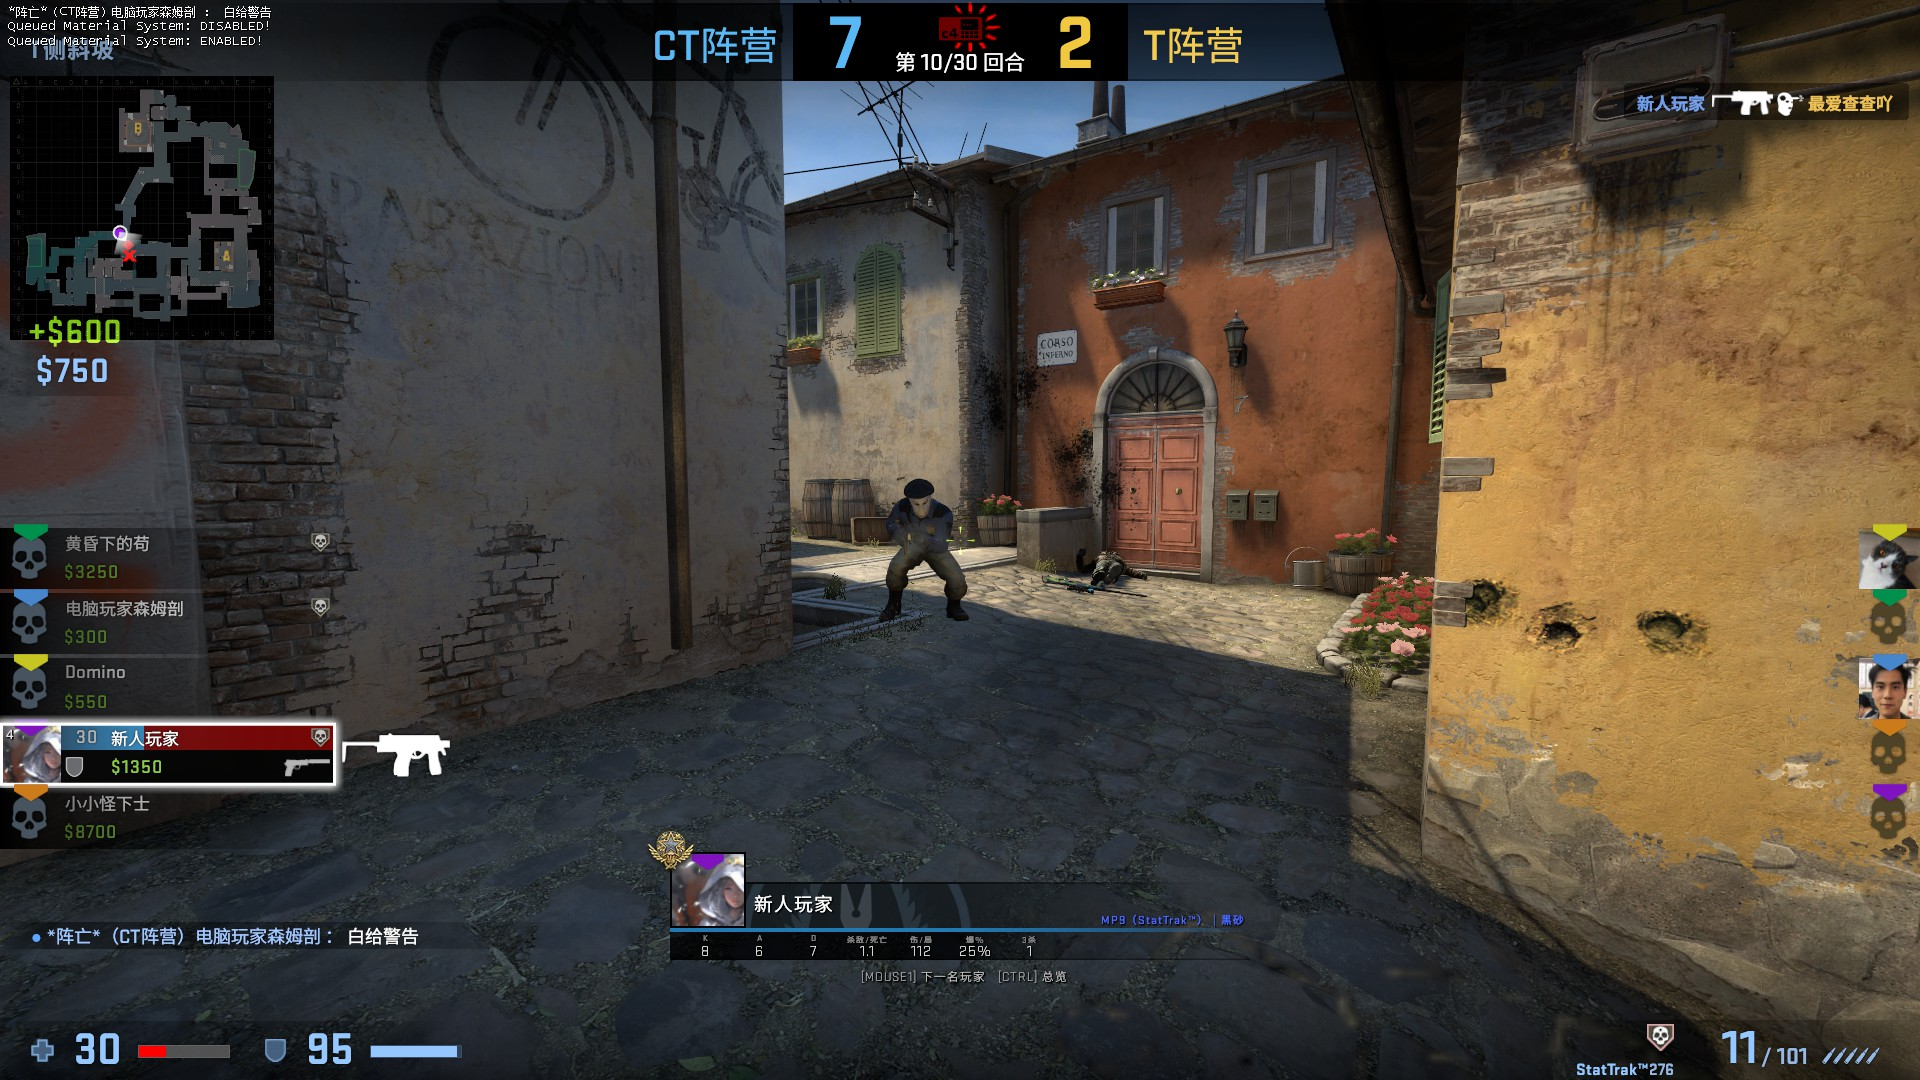head: (898, 476, 936, 521)
